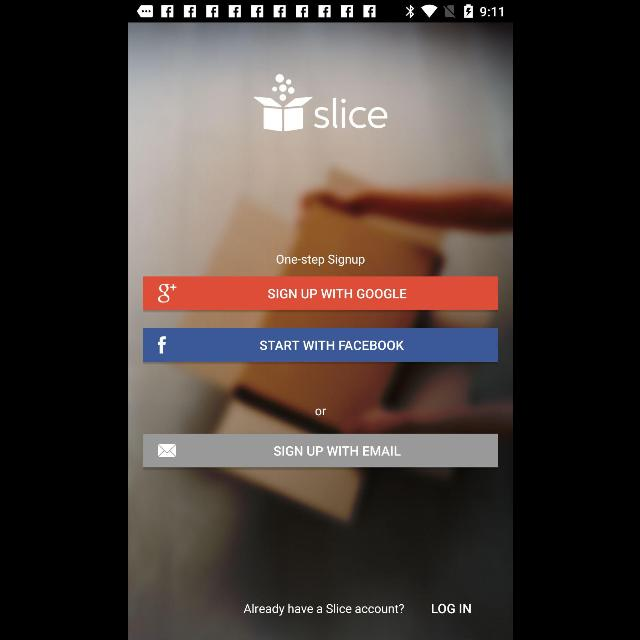image: (253, 75, 387, 132)
text: (243, 604, 403, 616), (276, 255, 364, 267), (432, 604, 471, 614), (315, 408, 325, 416)
textbutton: (142, 276, 498, 310), (142, 328, 498, 362), (142, 434, 498, 468)
uppertaskbar: (128, 1, 512, 23)
